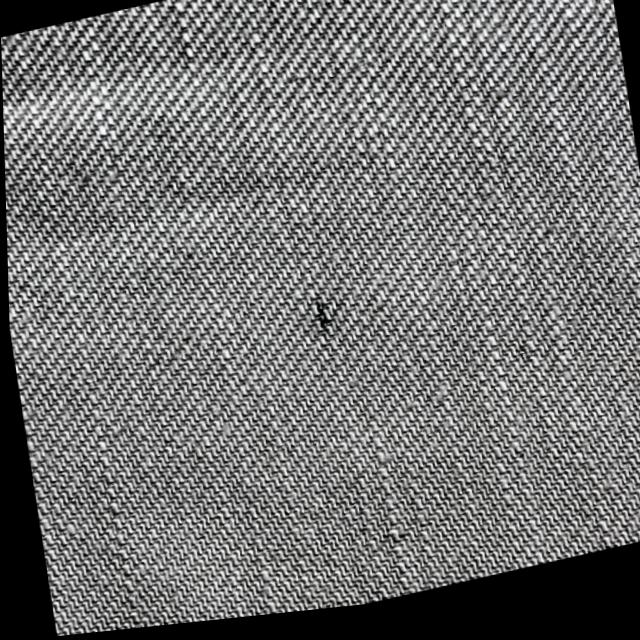Hole: (317, 325, 323, 333), (314, 312, 319, 319)
